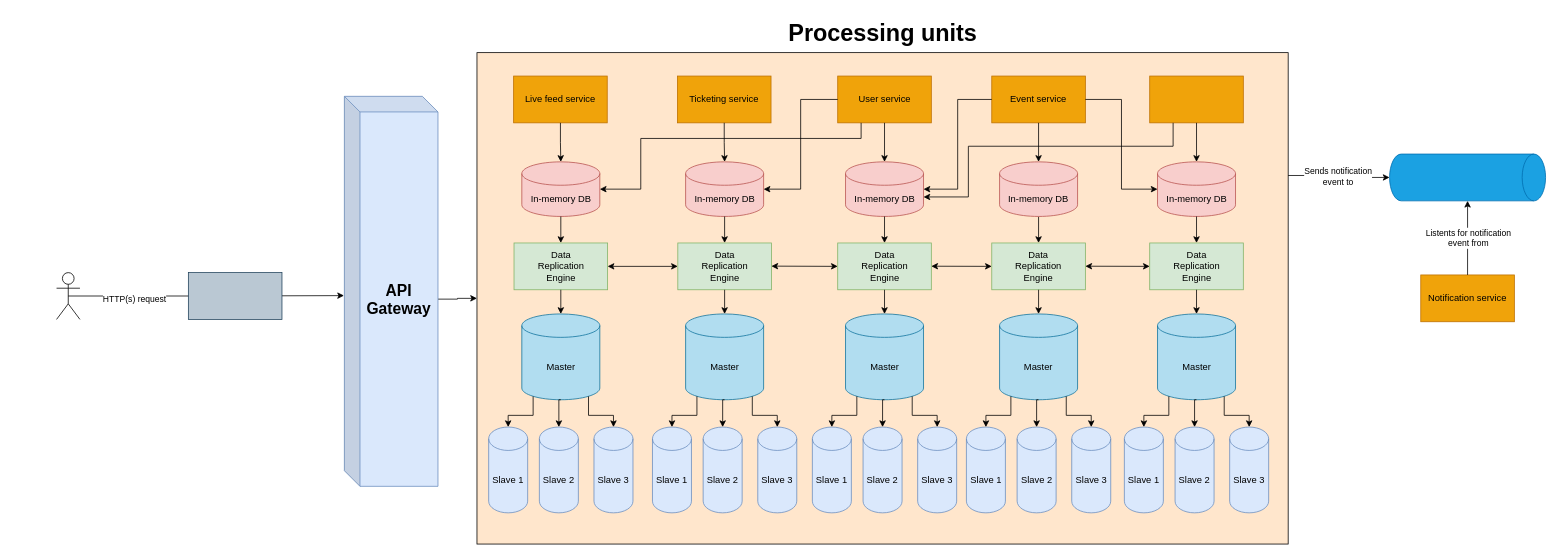
The diagram is 1559 pixels wide and 558 high, and some of its shapes have lost their labels. Each missing label, with the centre of its shape:
"Client (web browser, phone application etc.)" goes at (x=68, y=295).
"Load balancer" goes at (x=235, y=295).
"Message broker" goes at (x=1467, y=177).
"Recommending service" goes at (x=1196, y=99).
